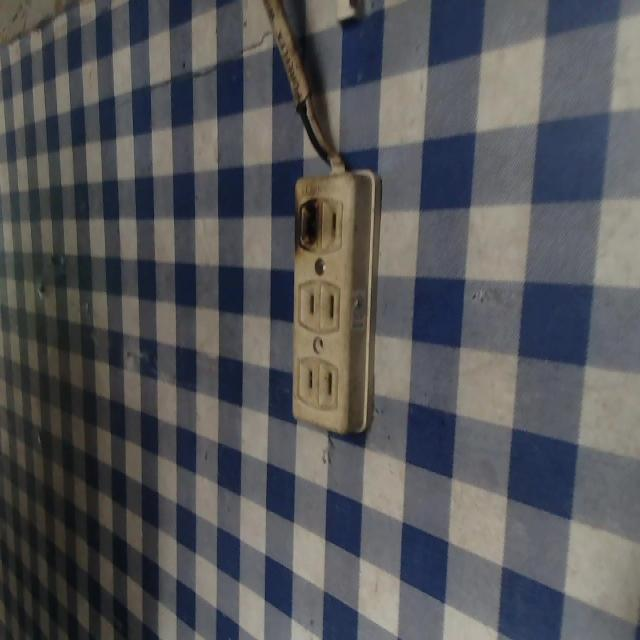-: (290, 193, 322, 252)
